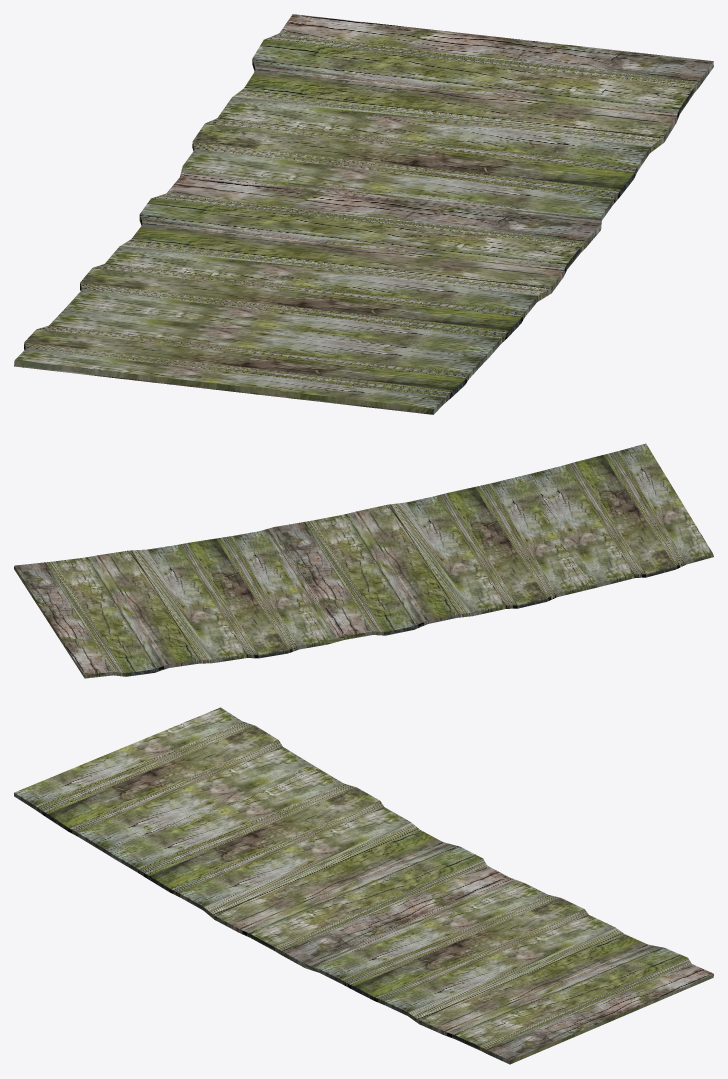
The model's file is GAMEOBJECT-25.fbx.
3 views of the same model, one above another, from view 1: azimuth 30°, elevation 25°; view 2: azimuth 150°, elevation 25°; view 3: azimuth 270°, elevation 25° (orthographic). The views are drawn at different scales.
Parts seen in each view (by area): view 1: GameObject__25_; view 2: GameObject__25_; view 3: GameObject__25_.
Boxes of the visible parts, left/top/right/bottom form: GameObject__25_: left=14, top=14, right=713, bottom=414; GameObject__25_: left=14, top=443, right=713, bottom=678; GameObject__25_: left=14, top=707, right=713, bottom=1064.
Bounding box in the file's own units: 486 × 45.76 × 483.
